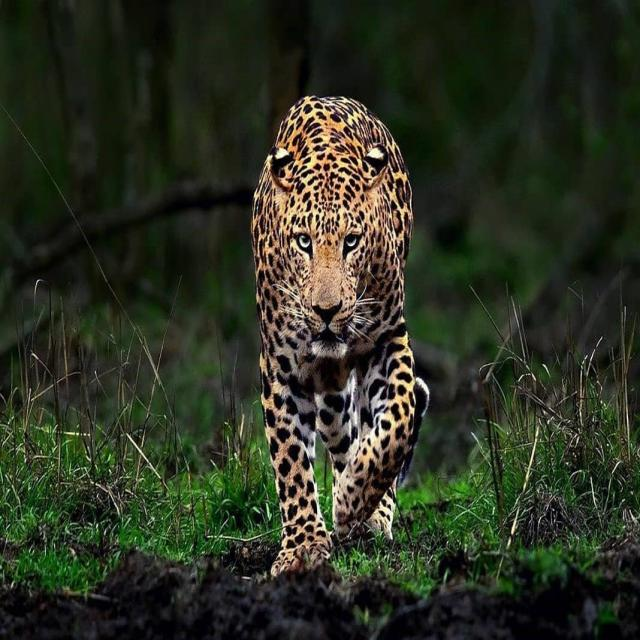Leopard: (248, 97, 418, 565)
